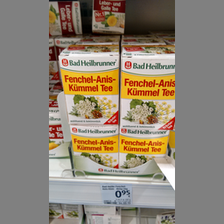tea: (118, 43, 176, 131), (58, 45, 119, 127), (118, 128, 171, 170), (70, 124, 119, 168), (90, 1, 126, 35)
